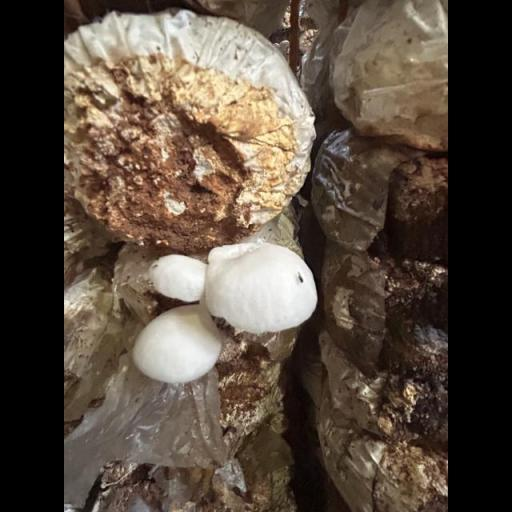White Oyster Mushroom: (137, 239, 319, 381)
